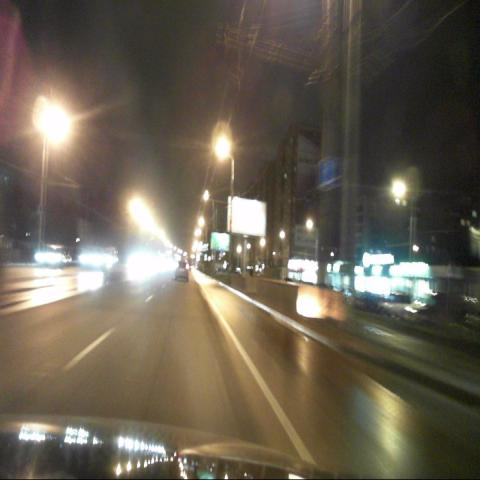6_6: (318, 160, 333, 189)
